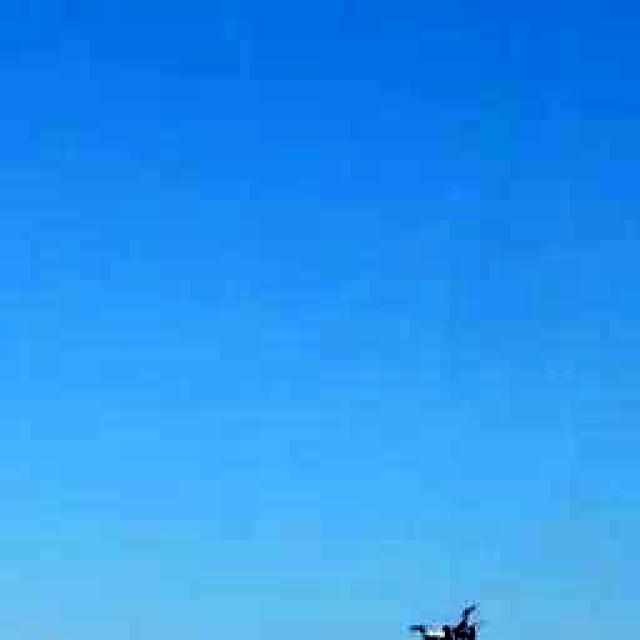bird: (370, 535, 520, 640)
